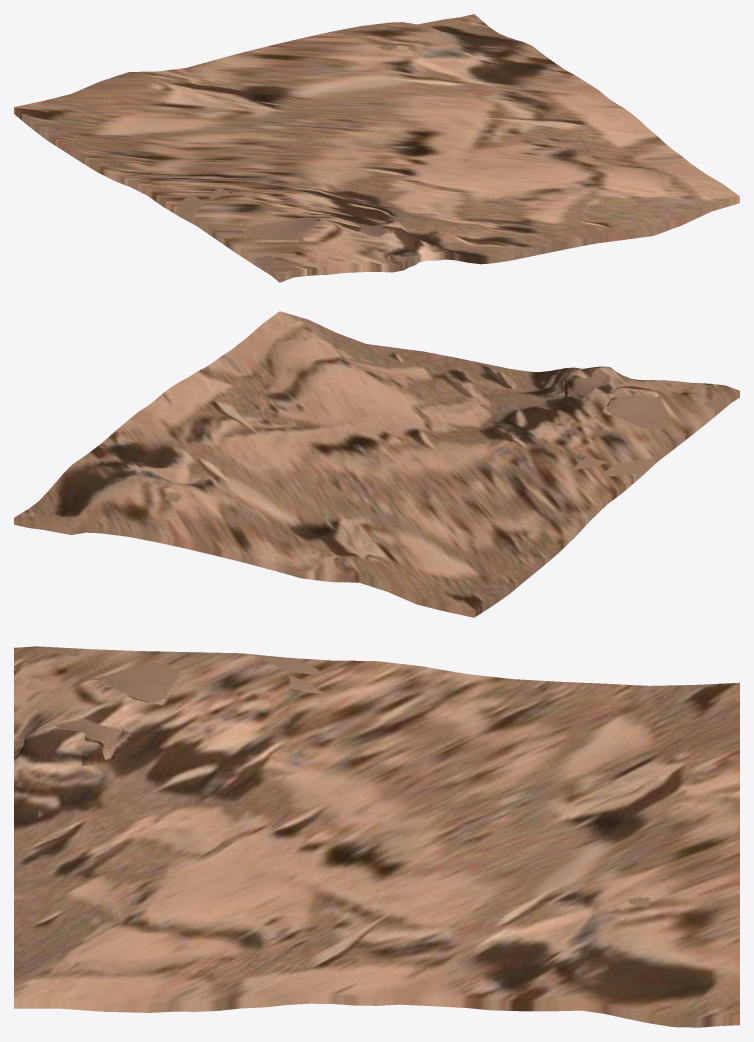
3 renders of one model, top to bottom at view 1: azimuth 30°, elevation 25°; view 2: azimuth 150°, elevation 25°; view 3: azimuth 270°, elevation 25°, orthographic. The views are drawn at different scales.
Bounding box in the file's own units: 1 × 0.123 × 1.
Materials: 1 (1 with a texture image).
